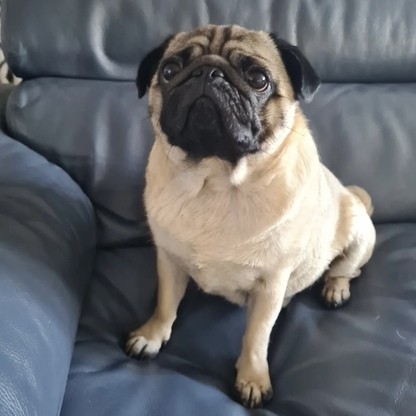Pug: (118, 22, 379, 411)
